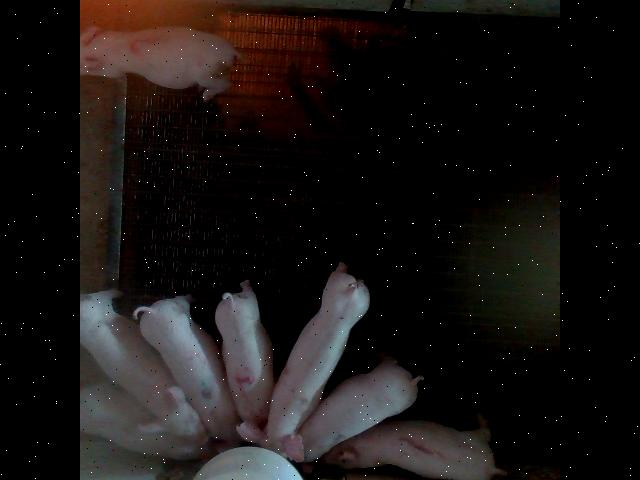pig-1: (316, 411, 505, 480)
pig-3: (82, 26, 240, 100)
pig-4: (215, 279, 275, 428)
